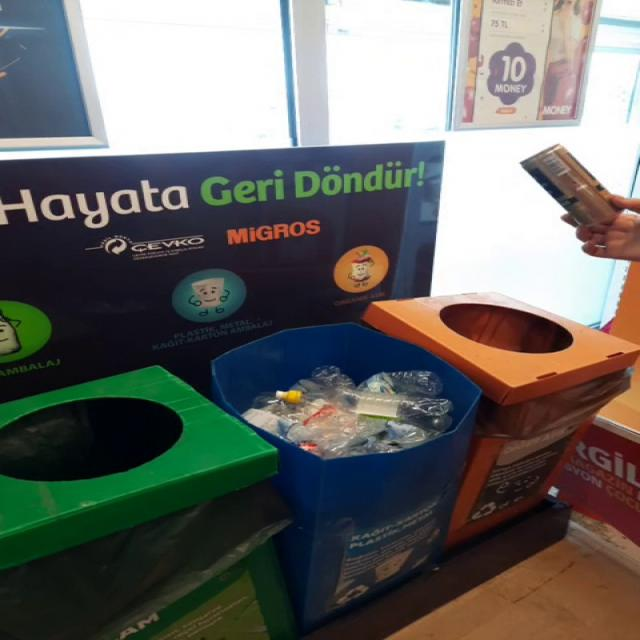bin: (215, 293, 640, 630)
metal: (521, 144, 621, 226)
